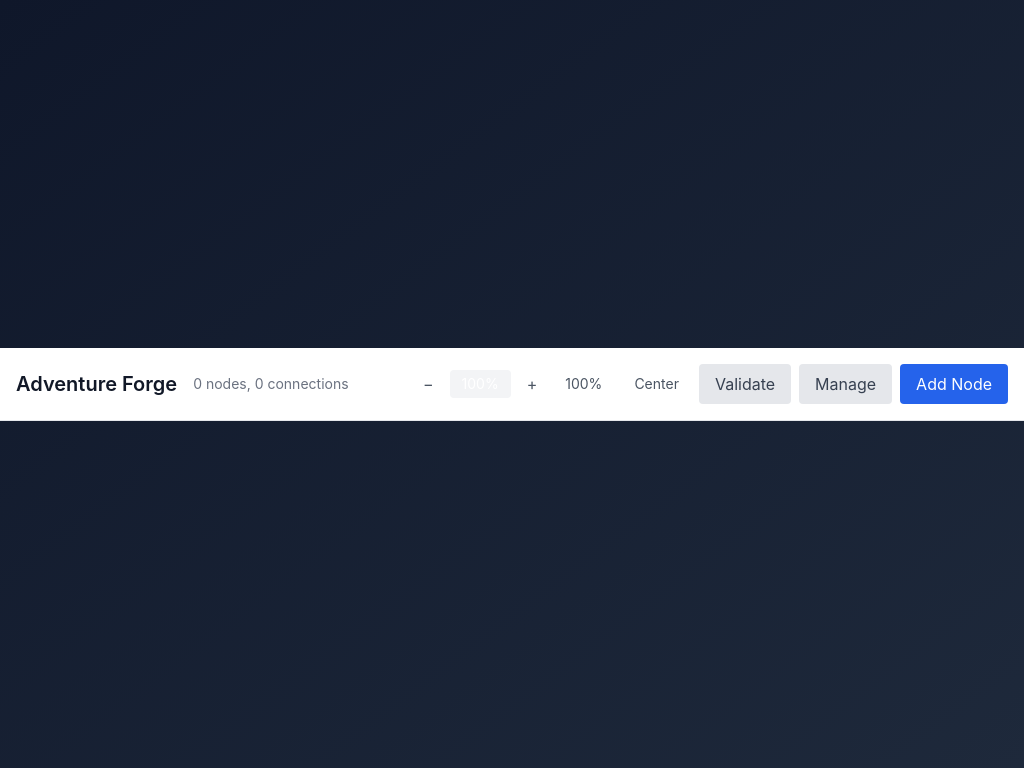
it: AdventureForge › opens node palette when Add Node is clicked
The image size is (1024, 768).
Click the button "Add Node" at (954, 384), box [900, 364, 1008, 404]
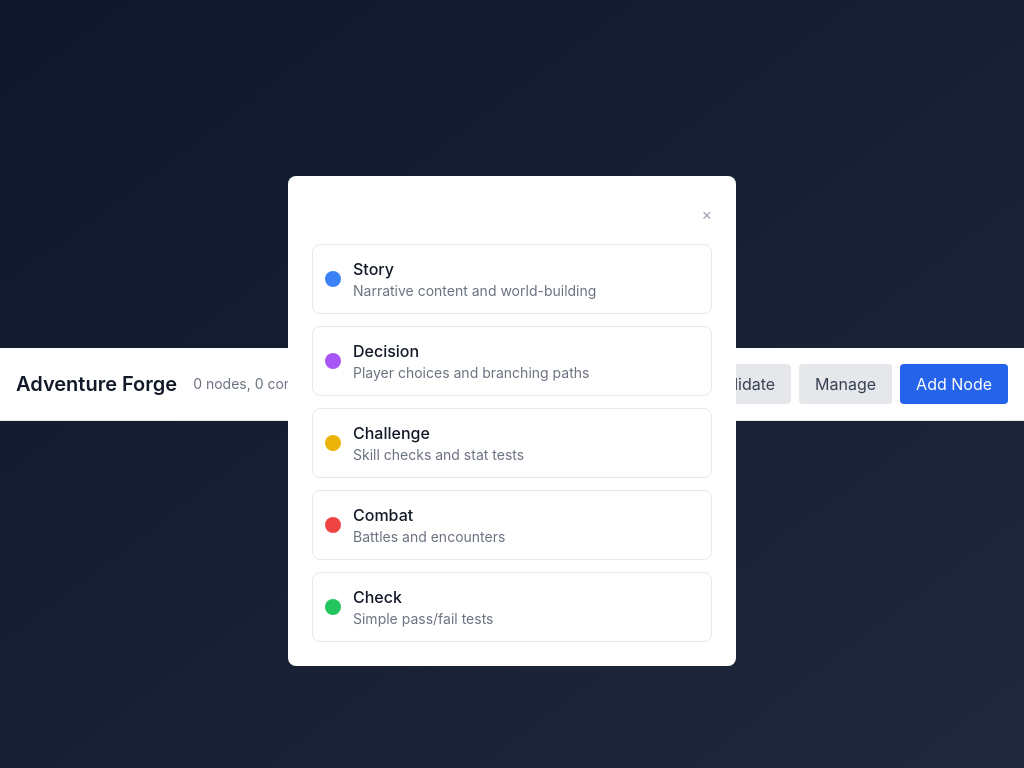
Expected: the text "Story" is shown, [353, 258, 394, 278]
Expected: the text "Decision" is shown, [353, 340, 419, 360]
Expected: the text "Challenge" is shown, [353, 422, 430, 442]
